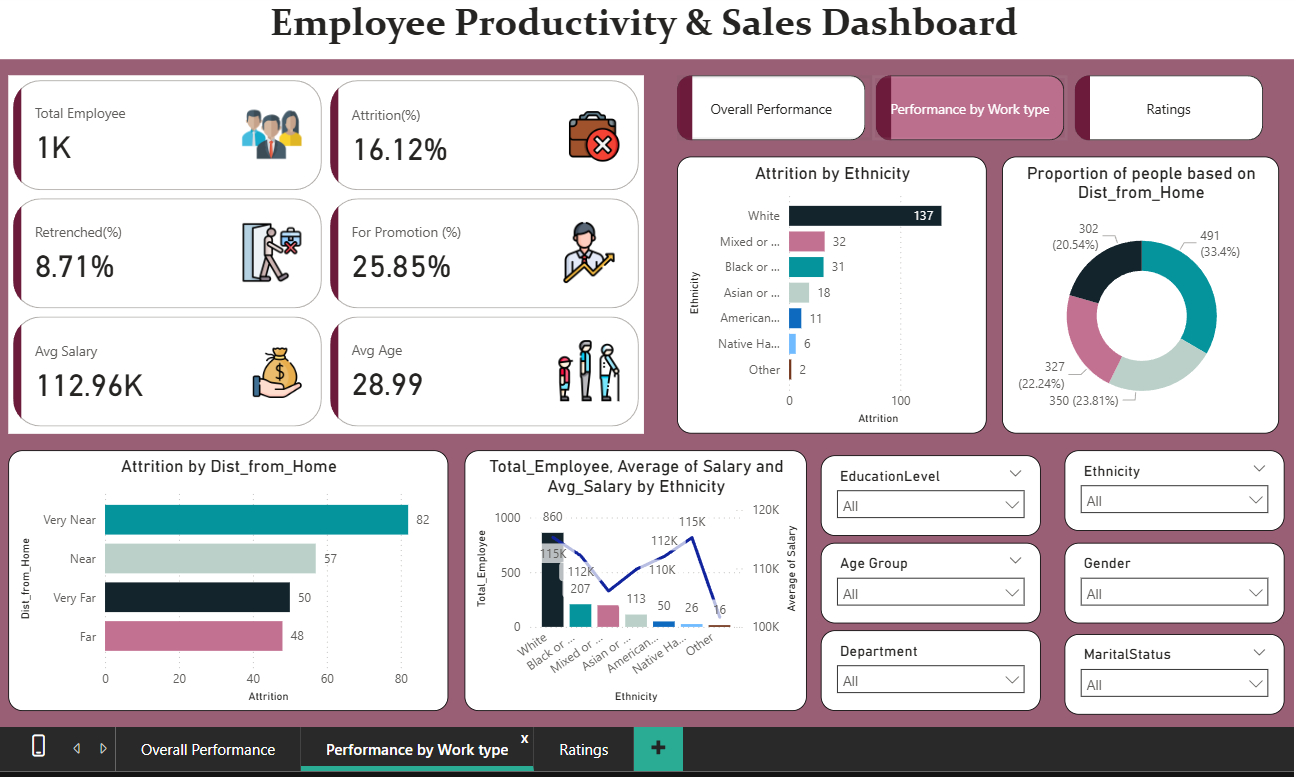

The dashboard page shown, as its layout file describes it:
{"tool":"powerbi","page":{"name":"Performance by Work type","canvas":[1280,720],"ordinal":1},"visuals":[{"type":"textbox","box":[0,0,1280,64],"z":0},{"type":"slicer","fields":{"Values":["EducationLevel.EducationLevel"]},"box":[813,452.3,216.2,79.5],"z":1000},{"type":"slicer","fields":{"Values":["Employee.Age Group"]},"box":[813,538.2,216.2,79.5],"z":2000},{"type":"slicer","fields":{"Values":["Employee.Department"]},"box":[813,624,216.2,79.5],"z":3000},{"type":"slicer","fields":{"Values":["Employee.Ethnicity"]},"box":[1052.2,448.2,216.2,79.5],"z":4000},{"type":"slicer","fields":{"Values":["Employee.Gender"]},"box":[1052.2,538.8,216.2,79.5],"z":5000},{"type":"slicer","fields":{"Values":["Employee.MaritalStatus"]},"box":[1052.2,627.8,216.2,79.5],"z":6000},{"type":"barChart","fields":{"Category":["Employee.Dist_from_Home"],"Y":["All Measures.Attrition"]},"box":[16,448,432,256],"z":7000},{"type":"donutChart","title":"Proportion of people based on Dist_from_Home","fields":{"Category":["Employee.Dist_from_Home"],"Y":["CountNonNull(Employee.Dist_from_Home)"]},"box":[992,160,272,272],"z":8000},{"type":"barChart","fields":{"Category":["Employee.Ethnicity"],"Y":["All Measures.Attrition"]},"box":[672,160,304,272],"z":9000},{"type":"lineStackedColumnComboChart","fields":{"Y":["All Measures.Total_Employee"],"Category":["Employee.Ethnicity"],"Y2":["Avg(Employee.Salary)"]},"box":[464,448,336,256],"z":10000},{"type":"pageNavigator","box":[672,80,576,64],"z":11000},{"type":"cardVisual","fields":{"Data":["All Measures.Total_Employee","All Measures.Attrition%","All Measures.Retrenched%","All Measures.Due for Promotion %","All Measures.Avg_Salary","All Measures.Avg_Age"]},"box":[16,80,624,352],"z":12000},{"type":"actionButton","box":[944,464,320,48],"z":13000},{"type":"actionButton","box":[954,474,320,48],"z":14000},{"type":"actionButton","box":[672,80,192,64],"z":15000},{"type":"actionButton","box":[864,80,192,64],"z":16000},{"type":"actionButton","box":[1056,80,192,64],"z":17000}]}

Visuals, with their boxes in screenshot pixels (x1, y1, x2, y2):
textbox: box(0, 0, 1293, 53)
slicer - EducationLevel.EducationLevel: box(834, 454, 1057, 536)
slicer - Employee.Age Group: box(834, 543, 1057, 625)
slicer - Employee.Department: box(834, 631, 1057, 714)
slicer - Employee.Ethnicity: box(1081, 450, 1293, 532)
slicer - Employee.Gender: box(1081, 543, 1293, 626)
slicer - Employee.MaritalStatus: box(1081, 635, 1293, 718)
barChart - Employee.Dist_from_Home x All Measures.Attrition: box(10, 450, 456, 714)
"Proportion of people based on Dist_from_Home" donutChart: box(1019, 152, 1293, 433)
barChart - Employee.Ethnicity x All Measures.Attrition: box(688, 152, 1002, 433)
lineStackedColumnComboChart - All Measures.Total_Employee x Employee.Ethnicity: box(473, 450, 820, 714)
pageNavigator: box(688, 69, 1283, 135)
cardVisual - All Measures.Total_Employee x All Measures.Attrition%: box(10, 69, 655, 433)
actionButton: box(969, 466, 1293, 516)
actionButton: box(979, 476, 1293, 526)
actionButton: box(688, 69, 886, 135)
actionButton: box(886, 69, 1085, 135)
actionButton: box(1085, 69, 1283, 135)
